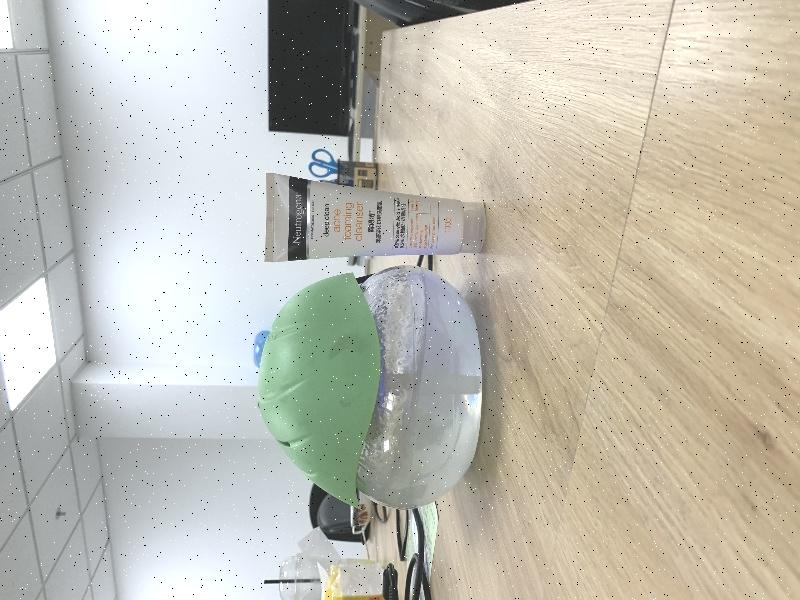AcneFoamingCleanser: (266, 173, 486, 263)
